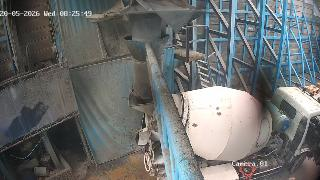cement_mixer_truck: (128, 86, 320, 180)
swing_chute: (122, 35, 171, 101)
